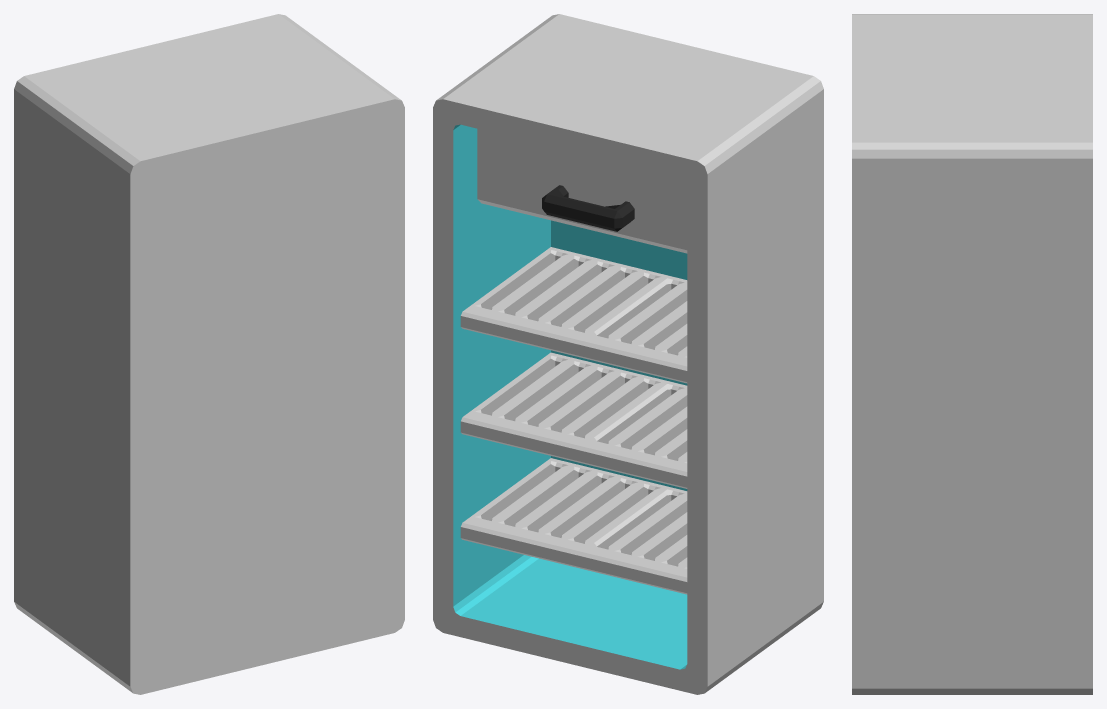
The model's file is Fridge.fbx.
3 views of the same model, side by side, from view 1: azimuth 30°, elevation 25°; view 2: azimuth 150°, elevation 25°; view 3: azimuth 270°, elevation 25° (orthographic). The views are drawn at different scales.
Parts seen in each view (by area): view 1: Fridge; view 2: Fridge; view 3: Fridge.
Boxes of the visible parts, bbox=[...] form: Fridge: bbox=[14, 14, 404, 694]; Fridge: bbox=[433, 14, 823, 694]; Fridge: bbox=[852, 14, 1092, 694].
Size of the model in its own units: 136 by 253 by 100.
